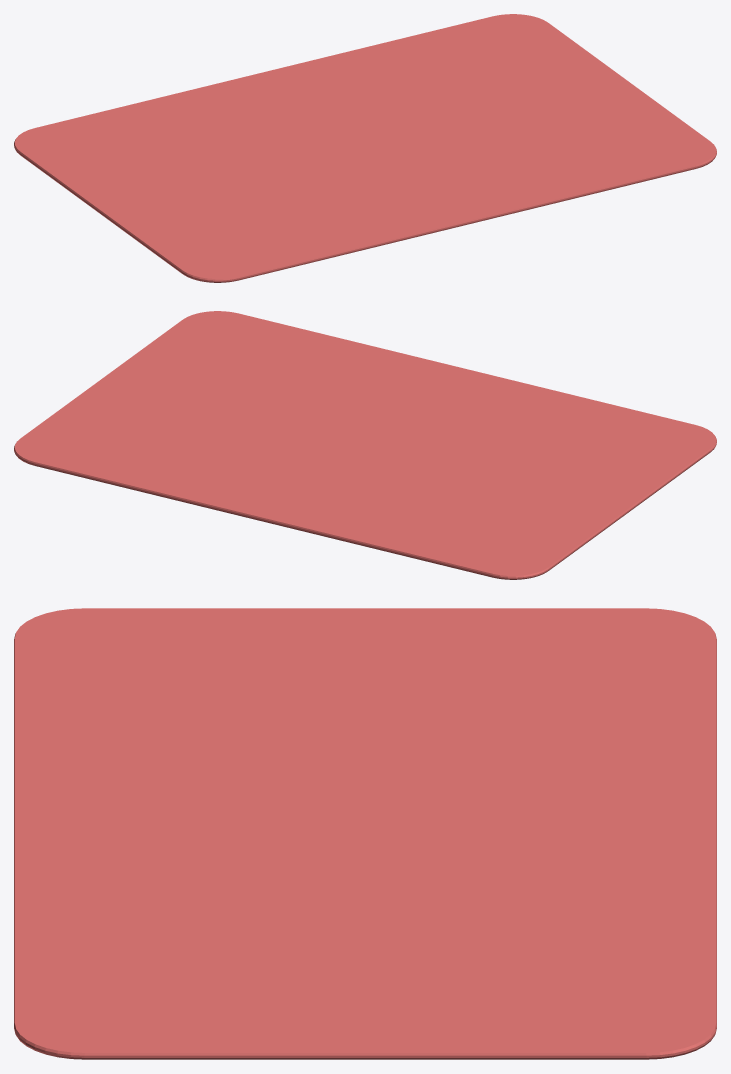
Rendered from card.glb.
3 views of the same model, one above another, from view 1: azimuth 30°, elevation 25°; view 2: azimuth 150°, elevation 25°; view 3: azimuth 270°, elevation 25° (orthographic). The views are drawn at different scales.
Parts seen in each view (by area): view 1: Plane; view 2: Plane; view 3: Plane.
Part boxes in pixels (bbox=[...]): Plane: bbox=[14, 14, 716, 282]; Plane: bbox=[14, 311, 716, 579]; Plane: bbox=[14, 608, 716, 1059].
Size of the model in its own units: 3.01 by 0.0211 by 2.
